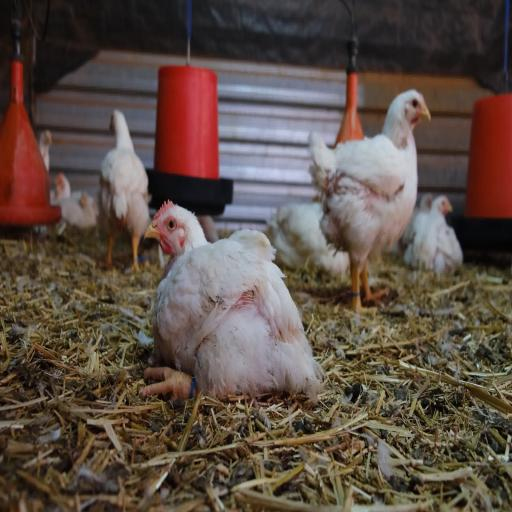healthy: (139, 200, 195, 262), (402, 70, 436, 136), (403, 80, 416, 104), (423, 122, 433, 142)
